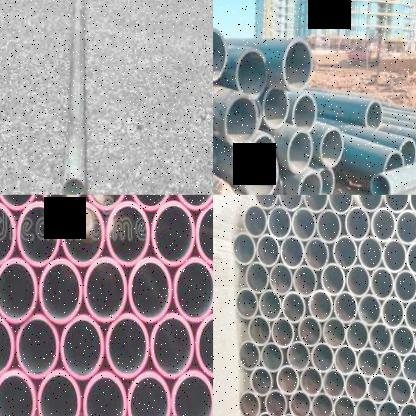pipe: (106, 200, 151, 266), (151, 200, 195, 266), (61, 202, 105, 268), (128, 256, 172, 322), (38, 258, 82, 324), (150, 312, 194, 378), (60, 314, 104, 379), (83, 256, 126, 322), (17, 202, 61, 266), (106, 313, 149, 378), (16, 315, 59, 380), (174, 256, 213, 322), (0, 257, 38, 322), (37, 370, 81, 416), (83, 371, 127, 416), (127, 371, 170, 416), (172, 371, 213, 416), (224, 94, 258, 148), (282, 38, 314, 92), (0, 369, 36, 416), (235, 48, 268, 99), (245, 149, 278, 195), (287, 129, 314, 174), (262, 88, 290, 129), (196, 312, 213, 378), (196, 202, 213, 266), (320, 127, 345, 167), (0, 314, 15, 380), (0, 201, 15, 266), (331, 235, 359, 269), (315, 208, 343, 242), (343, 206, 371, 240), (293, 93, 317, 132), (381, 237, 407, 273), (291, 206, 317, 241), (370, 207, 396, 242), (242, 203, 268, 237), (266, 205, 292, 239), (345, 264, 371, 297), (304, 237, 330, 270), (279, 235, 305, 268), (292, 264, 318, 297), (320, 263, 346, 295), (268, 263, 294, 295), (380, 296, 405, 329), (358, 236, 383, 269), (392, 268, 416, 302), (256, 233, 280, 267), (370, 266, 394, 300), (232, 231, 256, 265), (270, 317, 296, 348), (333, 291, 358, 323), (281, 291, 306, 323), (308, 290, 333, 322), (245, 261, 269, 294), (286, 341, 312, 371), (249, 366, 275, 396), (357, 294, 382, 325), (297, 316, 322, 347), (260, 341, 285, 372), (394, 209, 416, 244), (345, 319, 369, 351), (356, 346, 380, 378), (258, 289, 282, 321), (310, 342, 335, 372), (275, 365, 300, 395), (322, 317, 346, 348), (368, 322, 392, 353), (322, 368, 346, 399), (235, 288, 259, 319), (391, 325, 415, 356), (238, 339, 261, 371), (213, 28, 227, 80), (344, 371, 368, 401), (389, 376, 413, 406), (334, 344, 357, 375), (248, 315, 271, 346), (379, 350, 402, 380), (300, 366, 323, 396), (39, 195, 82, 211), (263, 389, 288, 416), (367, 374, 390, 403), (84, 195, 128, 210), (129, 195, 172, 210), (297, 170, 322, 195), (288, 389, 311, 416), (237, 390, 260, 416), (174, 195, 213, 210), (0, 195, 39, 210), (365, 99, 383, 131), (310, 391, 332, 416), (332, 393, 355, 416), (318, 166, 335, 195), (327, 195, 355, 212), (401, 352, 416, 383), (354, 396, 377, 416), (399, 138, 416, 165), (356, 195, 384, 211), (303, 195, 329, 212), (383, 151, 404, 172), (371, 173, 391, 195), (383, 195, 410, 211), (404, 298, 416, 331), (278, 195, 303, 210), (377, 400, 400, 416), (406, 240, 416, 275), (63, 178, 84, 194), (253, 195, 278, 208), (399, 402, 416, 416), (408, 195, 416, 214), (411, 378, 416, 408), (256, 412, 278, 416), (277, 413, 300, 416), (414, 327, 416, 358)
